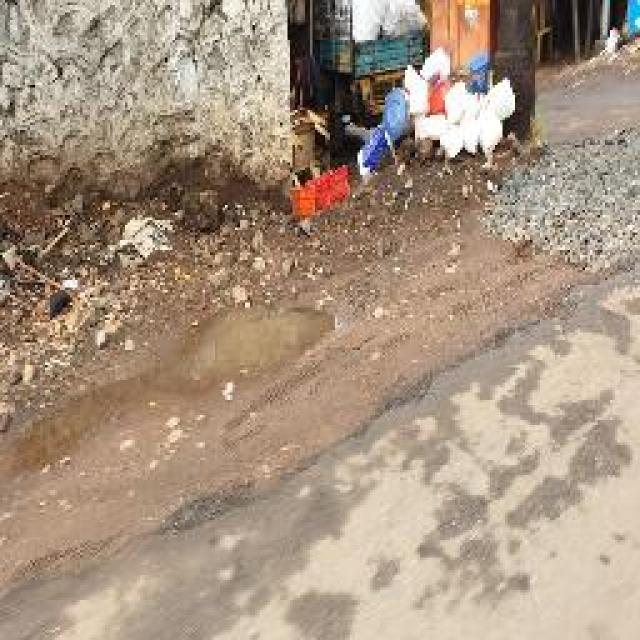stagnation: (159, 306, 346, 395)
